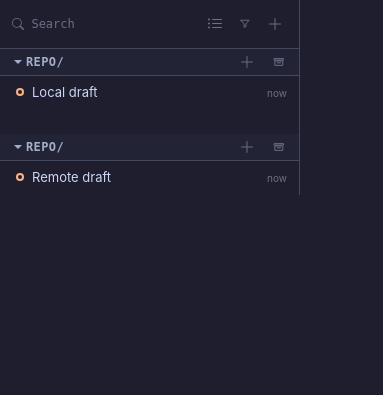
Test: SessionSidebar › groups draft-only projects by owner and includes them in the project filter
Click the button named "Filter sessions" at (245, 24), box [233,12,257,36]
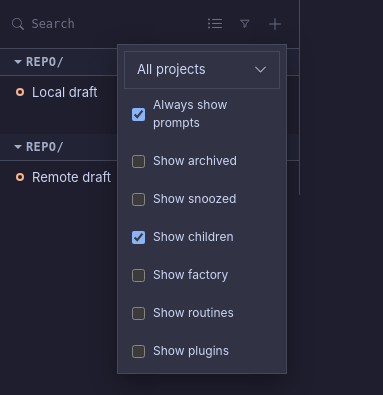
Click the dropdown labelled "project" at (202, 70), box [124,51,280,89]
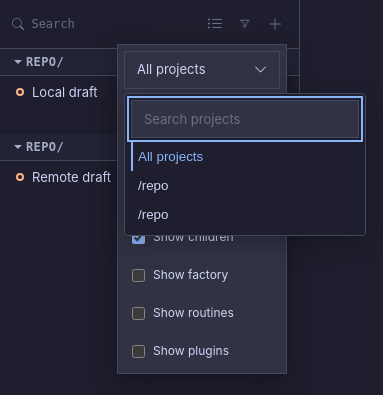
Click the 1st option "/repo" at (245, 186), box [131,171,359,200]
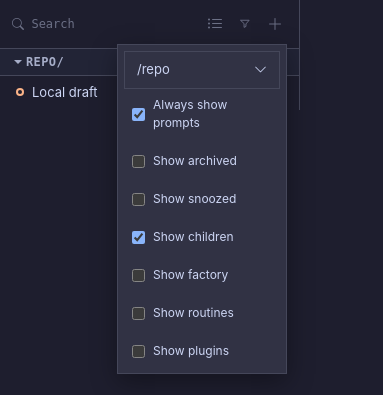
Expected: the text "Local draft" is shown, [32,84,98,100]
Expected: the button "Remote draft" is gone
